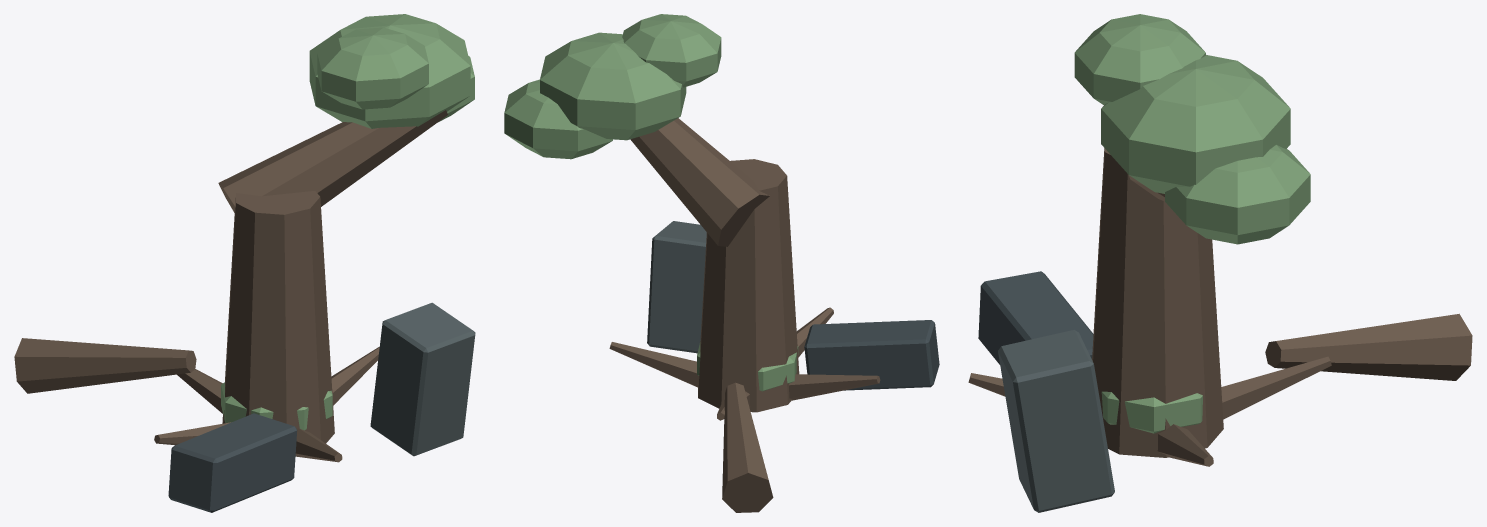
File: hero_broken_tree.glb
The picture shows the model from 3 angles, left to right: view 1: azimuth 30°, elevation 25°; view 2: azimuth 150°, elevation 25°; view 3: azimuth 270°, elevation 25°; orthographic projection. The views are drawn at different scales.
Visible parts, largest first — view 1: HeroBrokenTree, Leaves_0, Leaves_2, Leaves_3; view 2: HeroBrokenTree, Leaves_0, Leaves_2, Leaves_1, Leaves_3; view 3: HeroBrokenTree, Leaves_0, Leaves_1, Leaves_2, Leaves_3.
Part boxes in pixels (bbox=[...]): HeroBrokenTree: bbox=[14, 110, 475, 512]; Leaves_0: bbox=[309, 14, 470, 128]; Leaves_2: bbox=[317, 27, 428, 109]; Leaves_3: bbox=[221, 382, 332, 430]; HeroBrokenTree: bbox=[609, 118, 939, 512]; Leaves_0: bbox=[540, 32, 686, 140]; Leaves_2: bbox=[622, 14, 721, 87]; Leaves_1: bbox=[504, 79, 612, 159]; Leaves_3: bbox=[697, 342, 798, 391]; HeroBrokenTree: bbox=[968, 148, 1472, 512]; Leaves_0: bbox=[1101, 55, 1290, 193]; Leaves_1: bbox=[1165, 145, 1310, 244]; Leaves_2: bbox=[1074, 14, 1205, 104]; Leaves_3: bbox=[1101, 391, 1202, 433].
Bounding box in the file's own units: 7.65 × 7.54 × 7.23.
